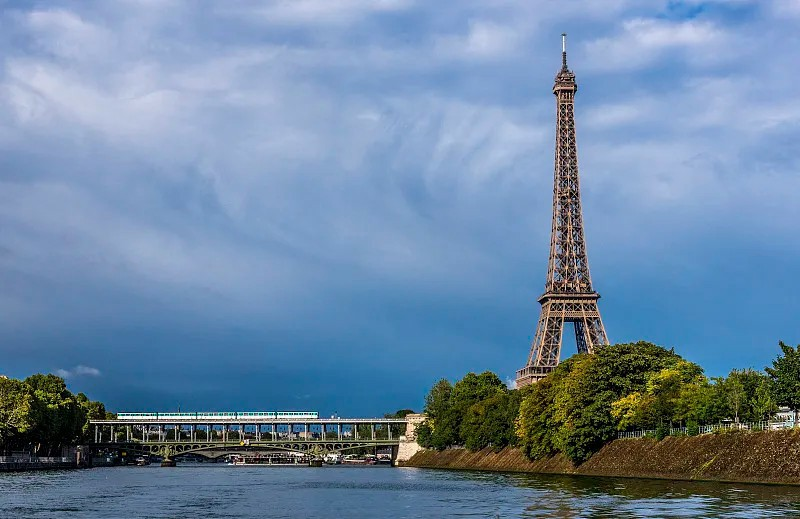Eiffel: (514, 34, 610, 389)
